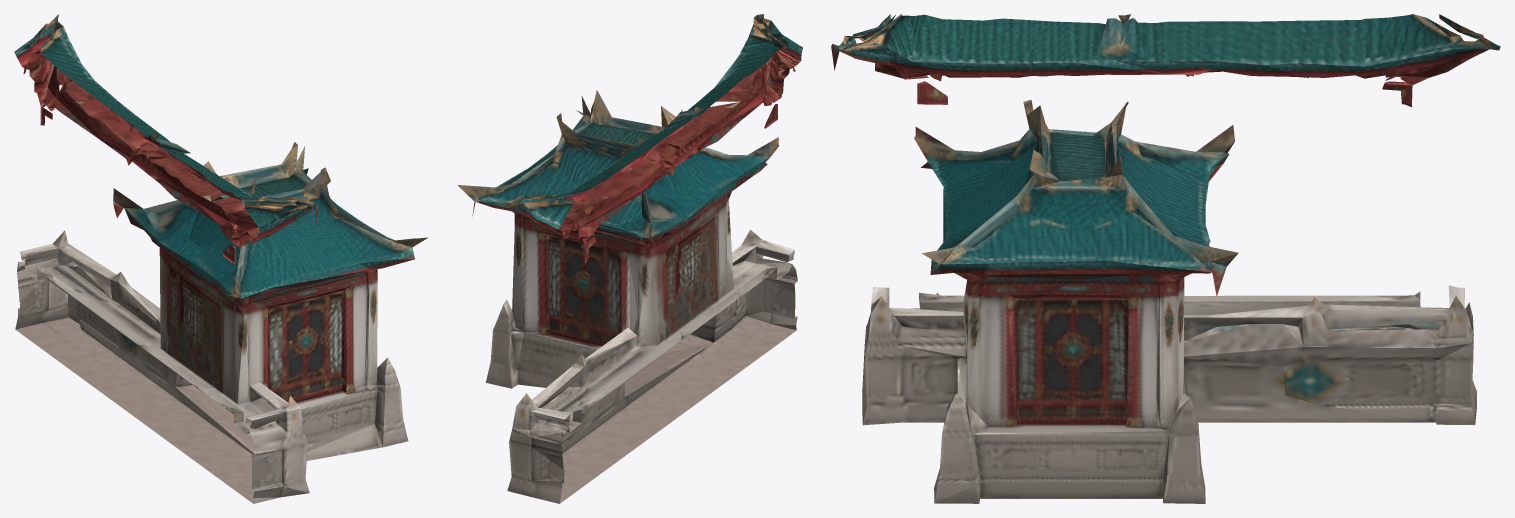
Rendered from annex_right_from_L3.glb.
3 renders of one model, left to right at view 1: azimuth 30°, elevation 25°; view 2: azimuth 150°, elevation 25°; view 3: azimuth 270°, elevation 25°, orthographic. The views are drawn at different scales.
Parts seen in each view (by area): view 1: Annex_R; view 2: Annex_R; view 3: Annex_R.
Boxes of the visible parts, x1=… form: Annex_R: x1=14, y1=14, x2=427, y2=503; Annex_R: x1=457, y1=14, x2=802, y2=503; Annex_R: x1=831, y1=14, x2=1500, y2=503.
Size of the model in its own units: 1.12 by 1.62 by 2.6.
1 material, 1 textured.
